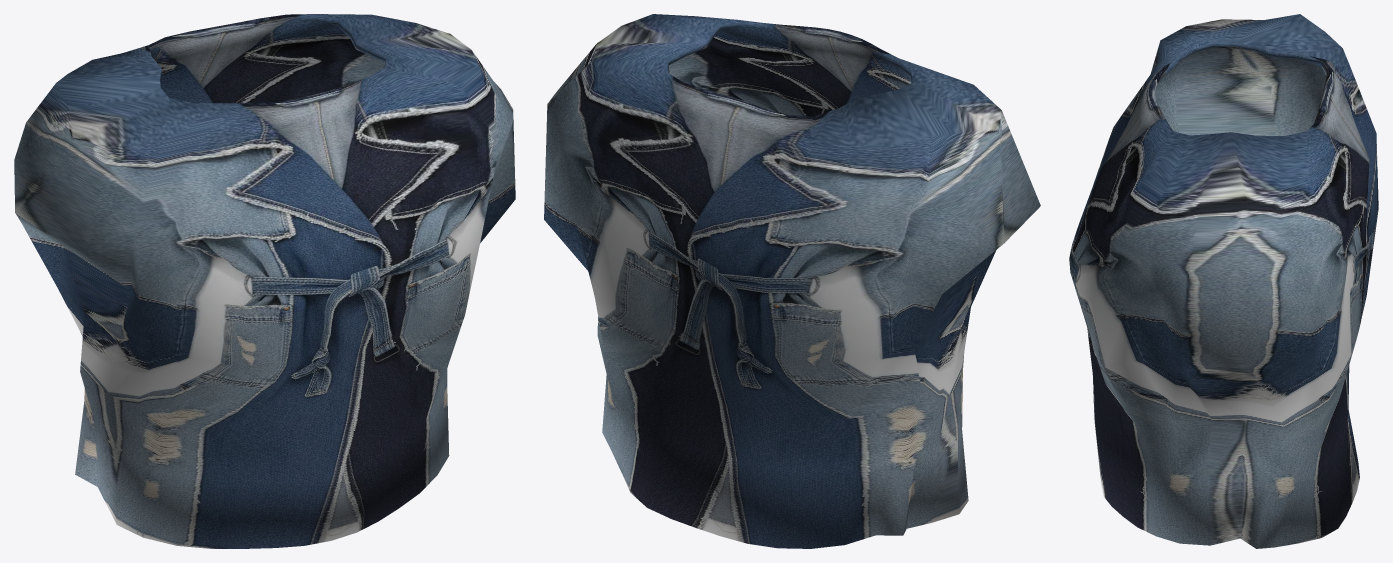
Rendered from 7ccd890c-7ac6-4946-b2ad-83c7bfd76f4f.glb.
The picture shows the model from 3 angles, left to right: view 1: azimuth 30°, elevation 25°; view 2: azimuth 150°, elevation 25°; view 3: azimuth 270°, elevation 25°; orthographic projection. The views are drawn at different scales.
Visible parts, largest first — view 1: garment; view 2: garment; view 3: garment.
Boxes of the visible parts, x1=… form: garment: x1=14, y1=14, x2=515, y2=548; garment: x1=544, y1=14, x2=1040, y2=548; garment: x1=1069, y1=14, x2=1378, y2=548.
Bounding box in the file's own units: 0.5431 × 0.4765 × 0.334.
Materials: 1 (1 with a texture image).
